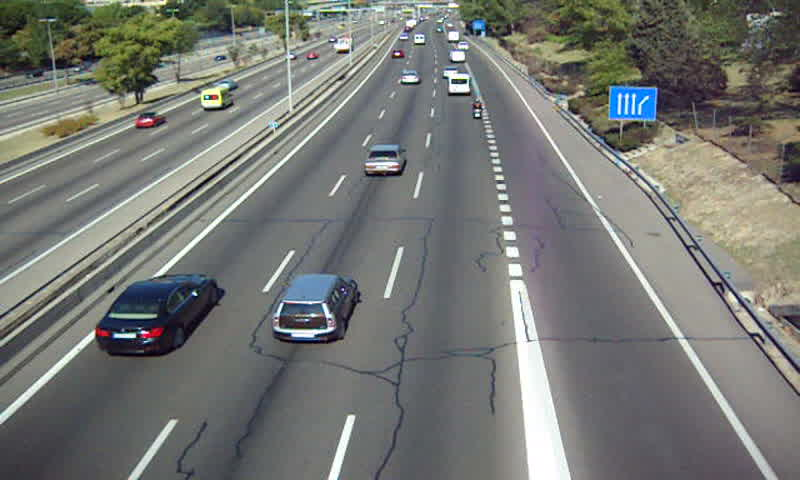car: (95, 273, 215, 355), (273, 276, 355, 343), (362, 144, 404, 176), (400, 70, 420, 85), (442, 66, 457, 79)
motorcycle: (472, 98, 484, 119)
van: (448, 72, 471, 95), (450, 51, 467, 63)
